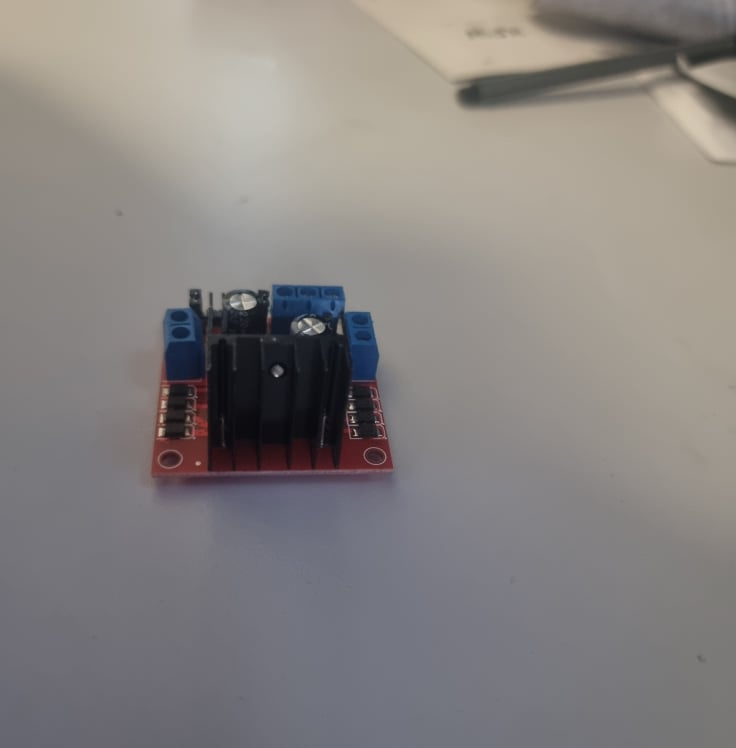MOTOR: (153, 280, 394, 479)
